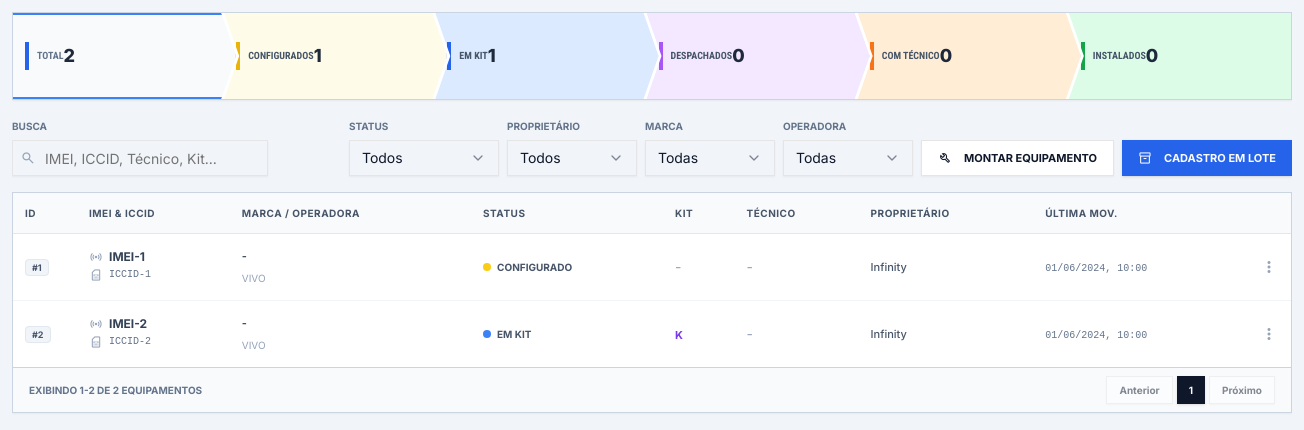
Scenario: EquipamentosPage (integração) › clique no pipeline EM_KIT filtra apenas com kit
The image size is (1304, 430).
Expected: the row with test id "equipamento-row-1" is shown, [13,234,1291,300]
Click the button with test id "equipamentos-pipeline-EM_KIT": coordinates (547, 56) [435,13,658,99]
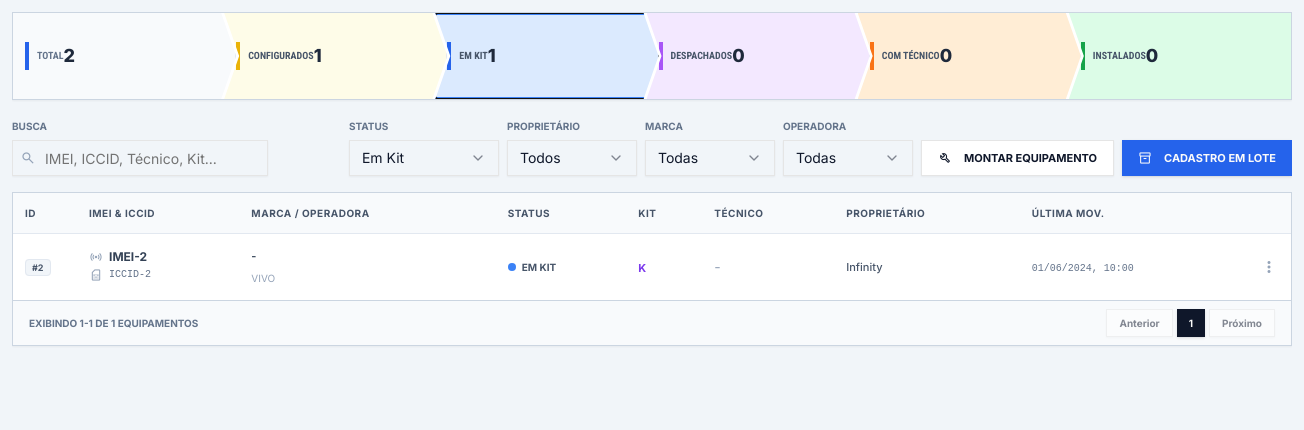
Expected: the row with test id "equipamento-row-2" is shown, [13,234,1291,300]
Result: the row with test id "equipamento-row-1" is gone
